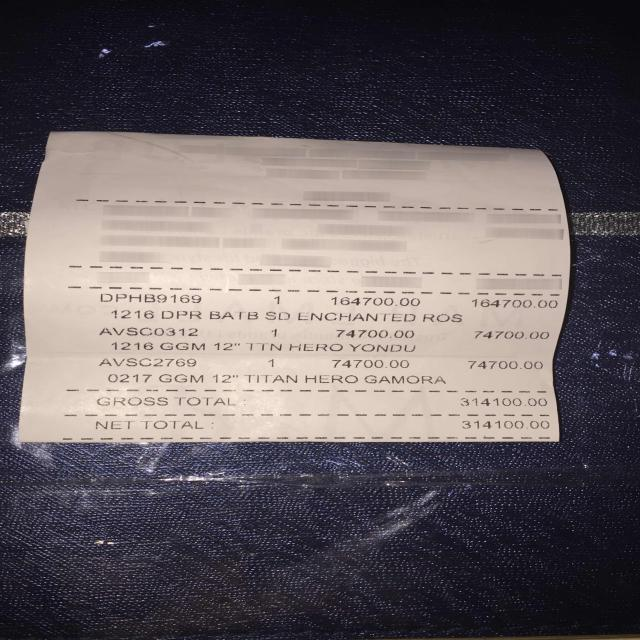kertas: (17, 129, 575, 461)
